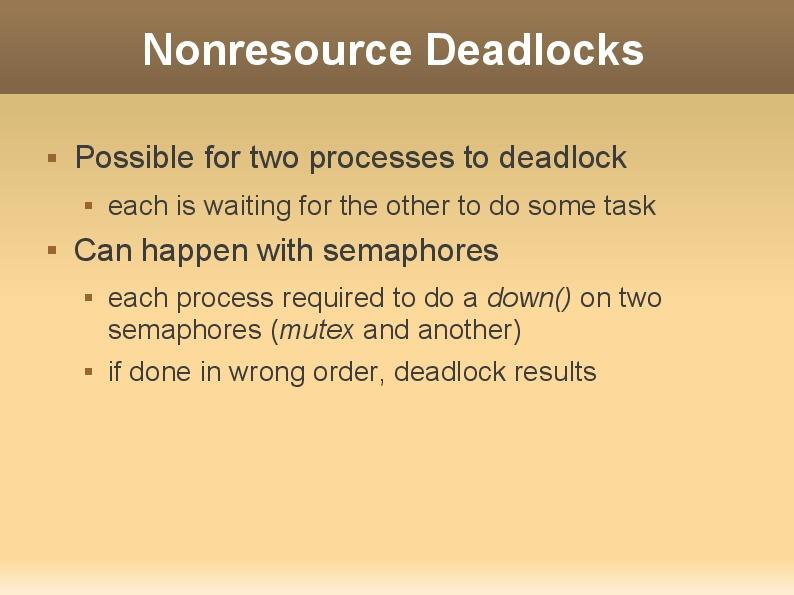paragraph: (34, 125, 711, 409)
title: (132, 18, 658, 81)
